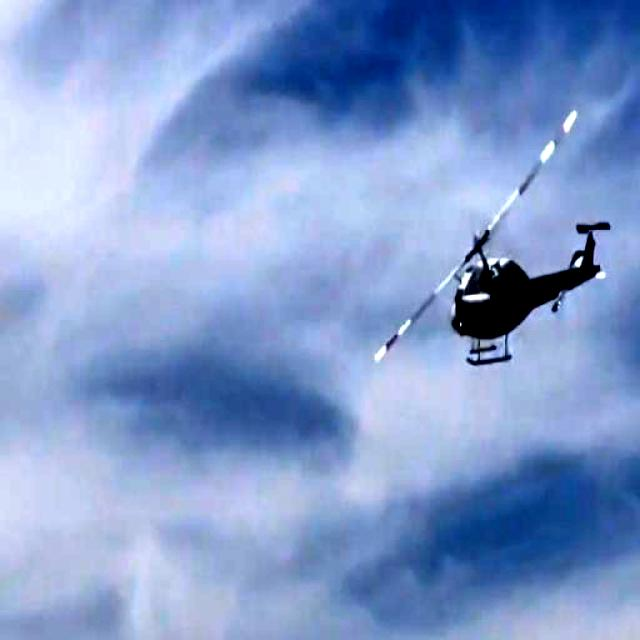drone: (368, 92, 616, 390)
